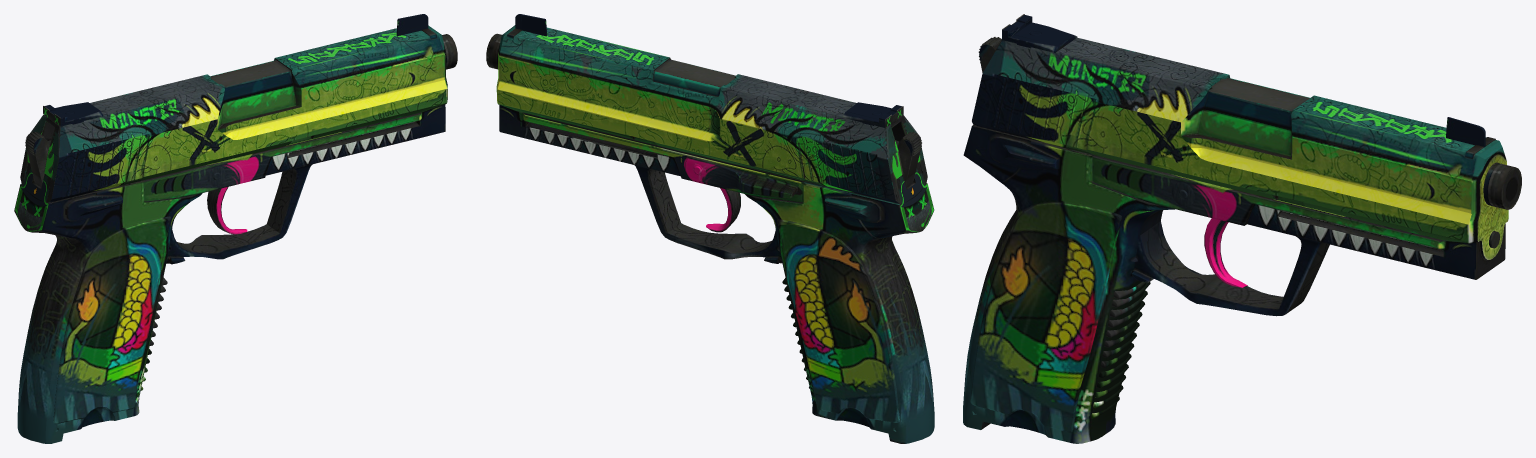
File: w_pistol_mk2_krokos.glb
3 renders of one model, left to right at view 1: azimuth 30°, elevation 25°; view 2: azimuth 150°, elevation 25°; view 3: azimuth 330°, elevation 25°, orthographic. The views are drawn at different scales.
Parts seen in each view (by area): view 1: Gun_Root; view 2: Gun_Root; view 3: Gun_Root.
Part boxes in pixels (x1,y1,x2,y2): Gun_Root: (14, 14, 457, 443); Gun_Root: (486, 14, 934, 443); Gun_Root: (963, 14, 1521, 443).
Size of the model in its own units: 0.1898 by 0.1366 by 0.0295.
1 material, 1 textured.
